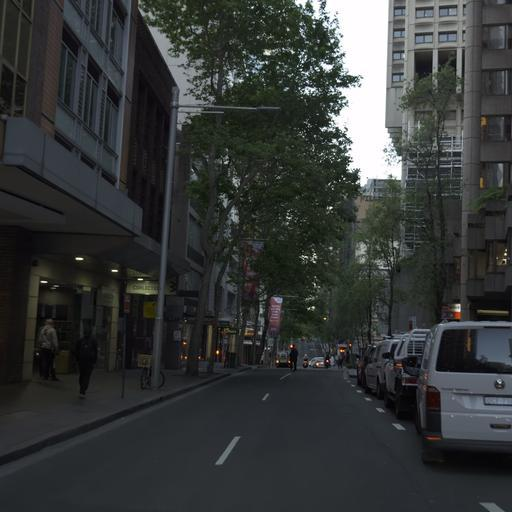Street light: (147, 87, 281, 389)
